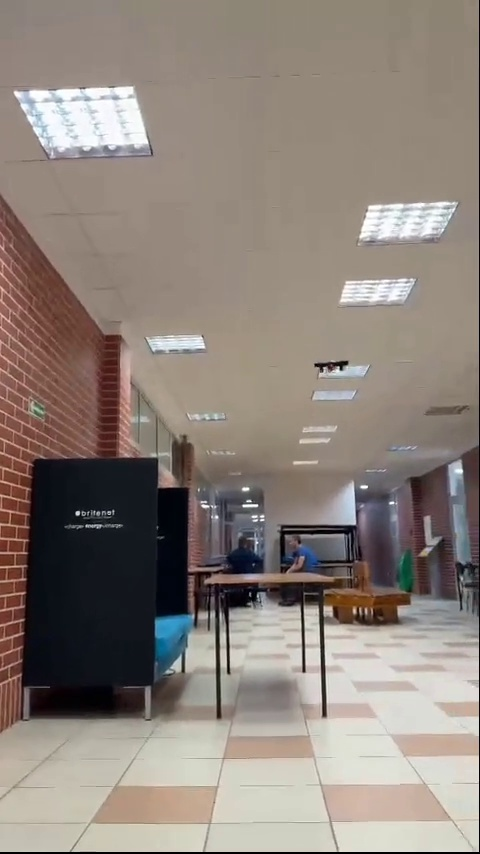drone: (313, 359, 349, 375)
no vest: (283, 533, 319, 581), (225, 535, 258, 574)
